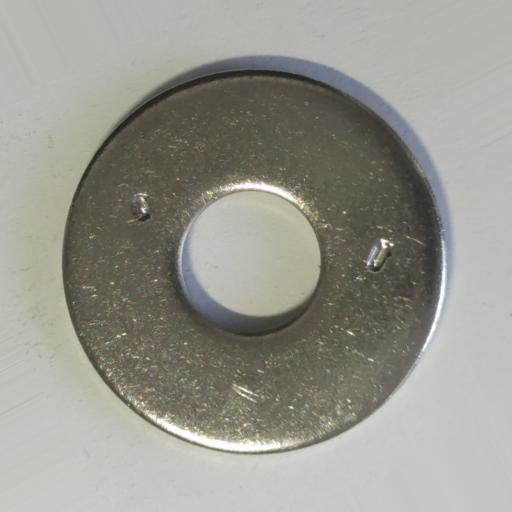circular_cavity: (362, 236, 395, 272), (128, 193, 155, 223)
